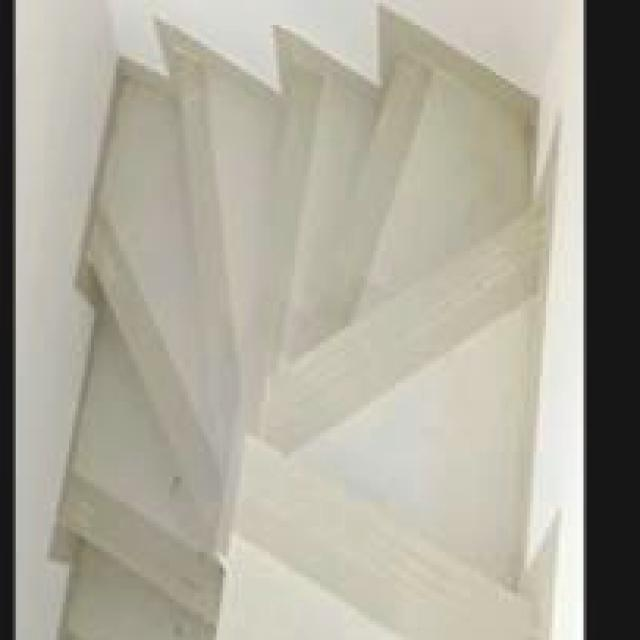downstair: (195, 36, 569, 619)
